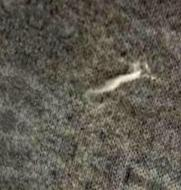snag: (80, 65, 144, 103)
